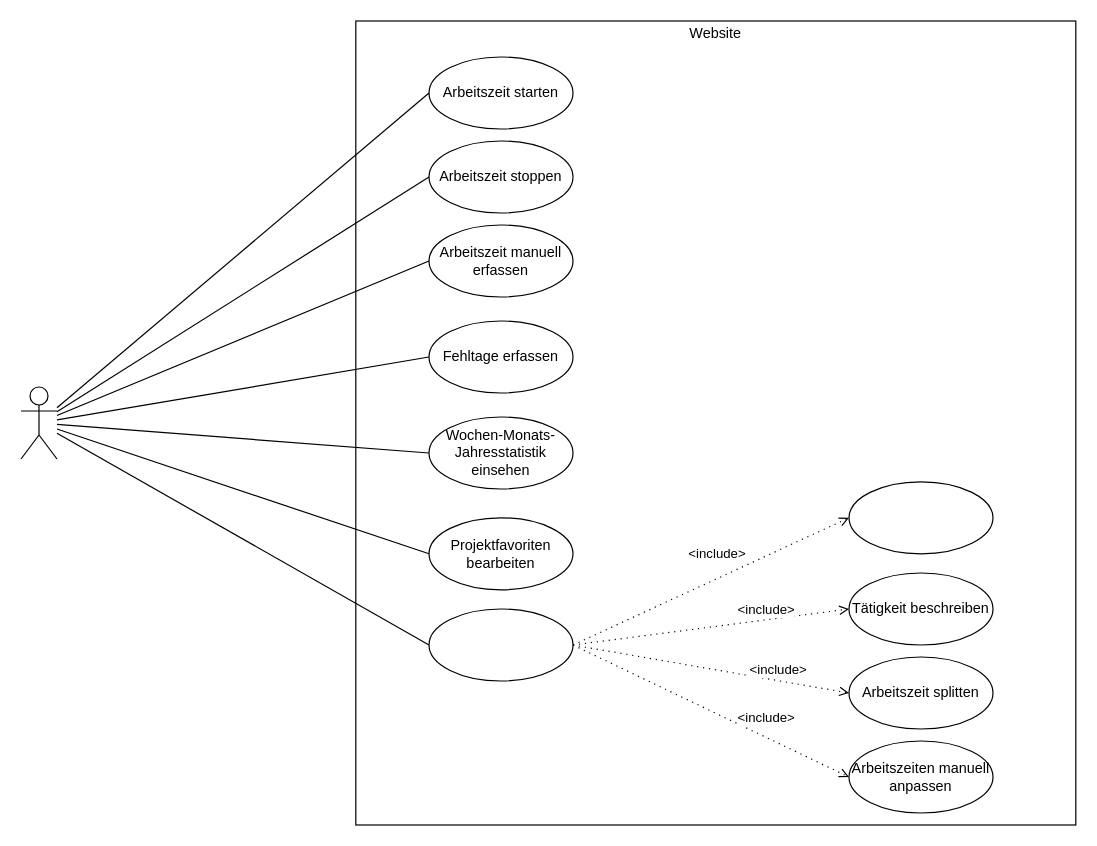
Some shapes in this 1097 by 846 pixel diagram are drawn without their labels. The shapes that lost their labels are listed below. From the top down, each one's box as (x1, y1, x2, y2) in pixels, then its label:
(20, 386, 57, 459): User
(848, 481, 993, 554): Projekte zuordnen
(428, 608, 573, 681): Arbeitszeiten bearbeiten
